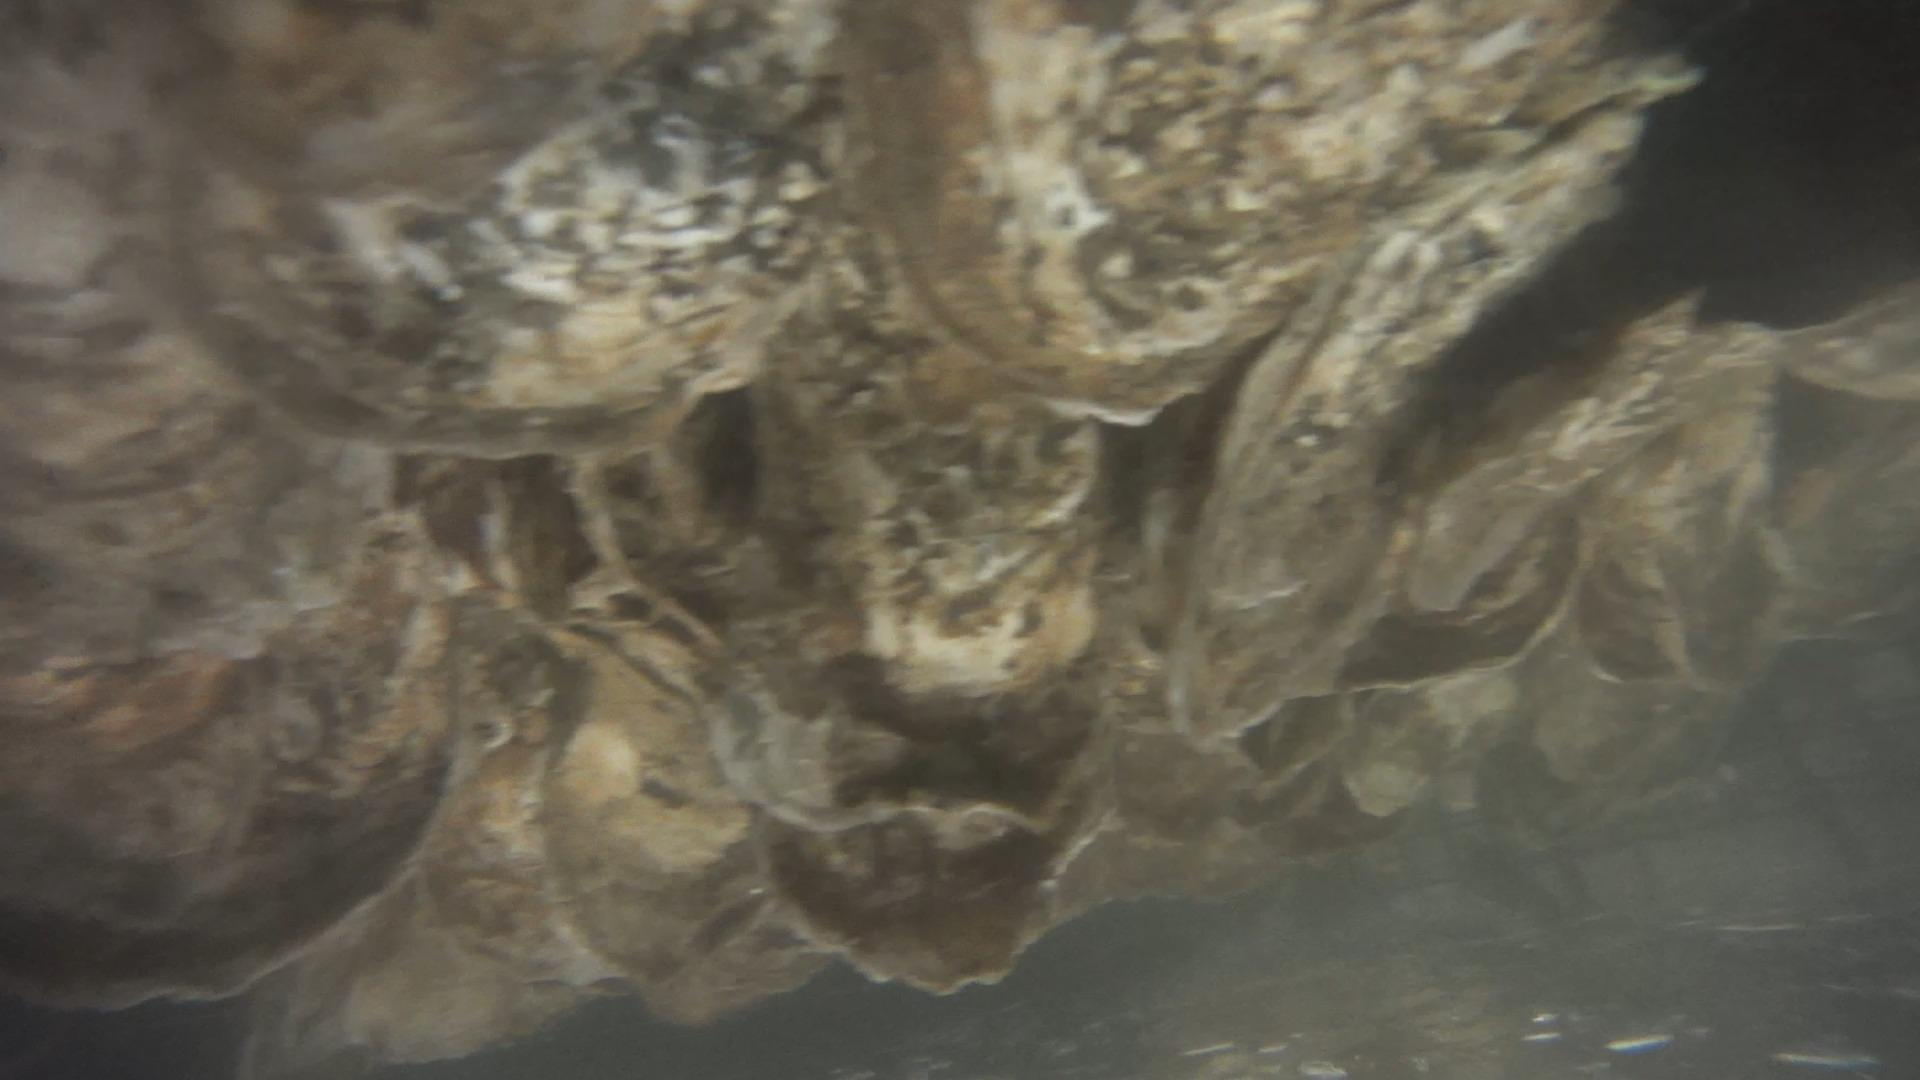3: (1147, 121, 1658, 766)
Oyster-Closed: (1404, 295, 1779, 611)
Oyster-Open: (381, 218, 1138, 841), (0, 0, 468, 1005), (835, 0, 1704, 433), (148, 0, 862, 465), (741, 761, 1117, 994), (1340, 513, 1580, 687), (1785, 278, 1920, 398), (1344, 690, 1451, 818)
